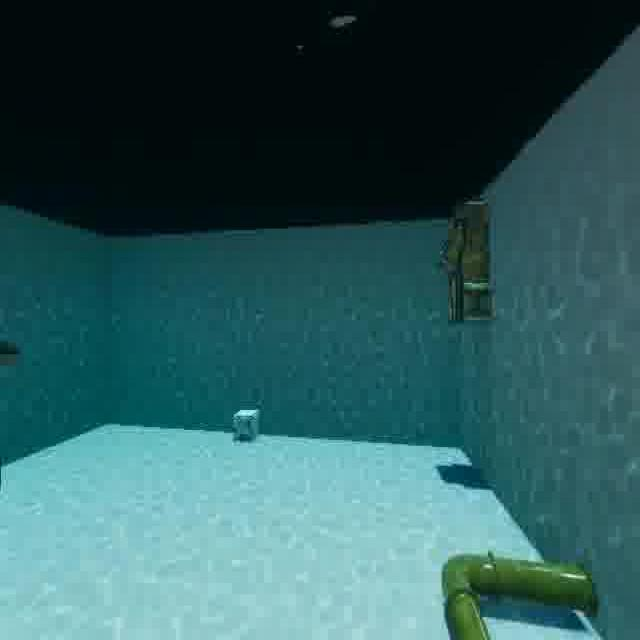Control Panel: (430, 195, 505, 332)
Docking Station: (228, 403, 265, 448)
Pipe: (433, 543, 610, 640)
